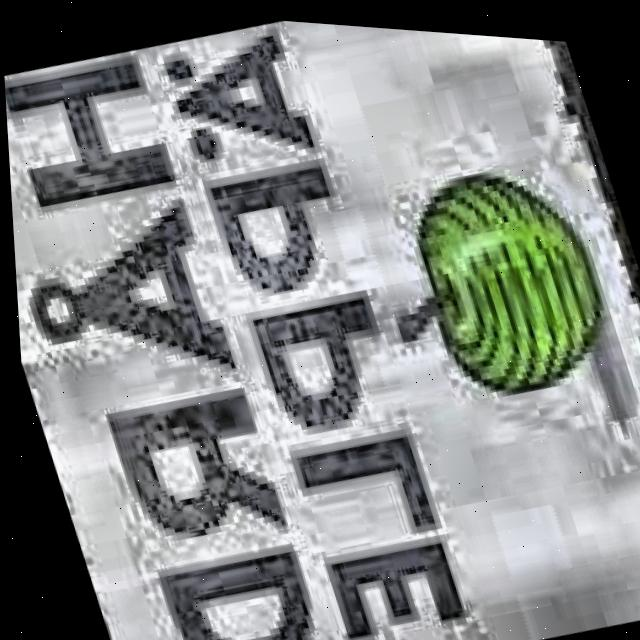metal: (3, 16, 640, 640)
